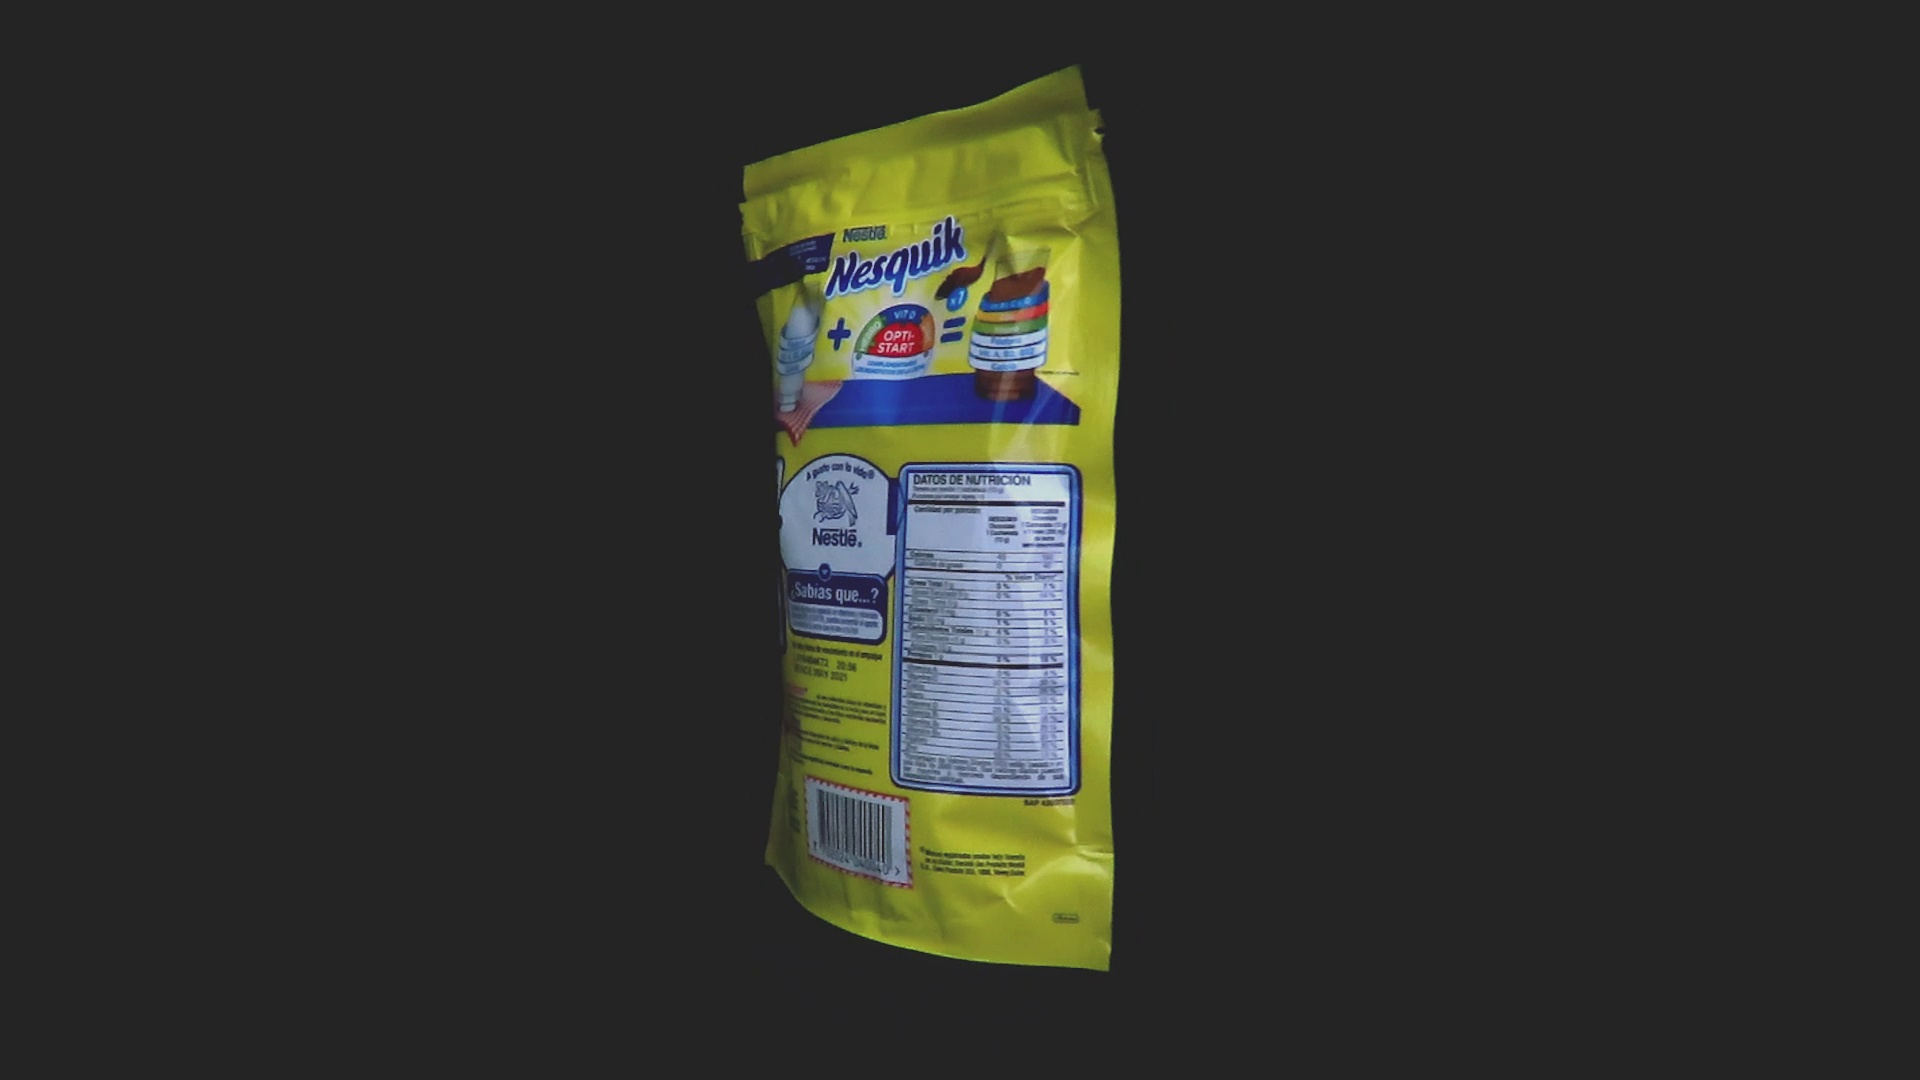COL0170303DYP20000: (733, 59, 1127, 978)
